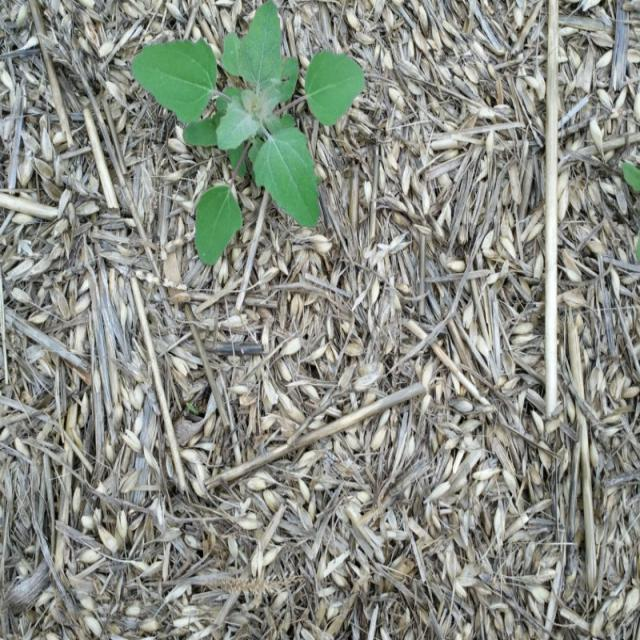goosefoots: (104, 0, 363, 295)
